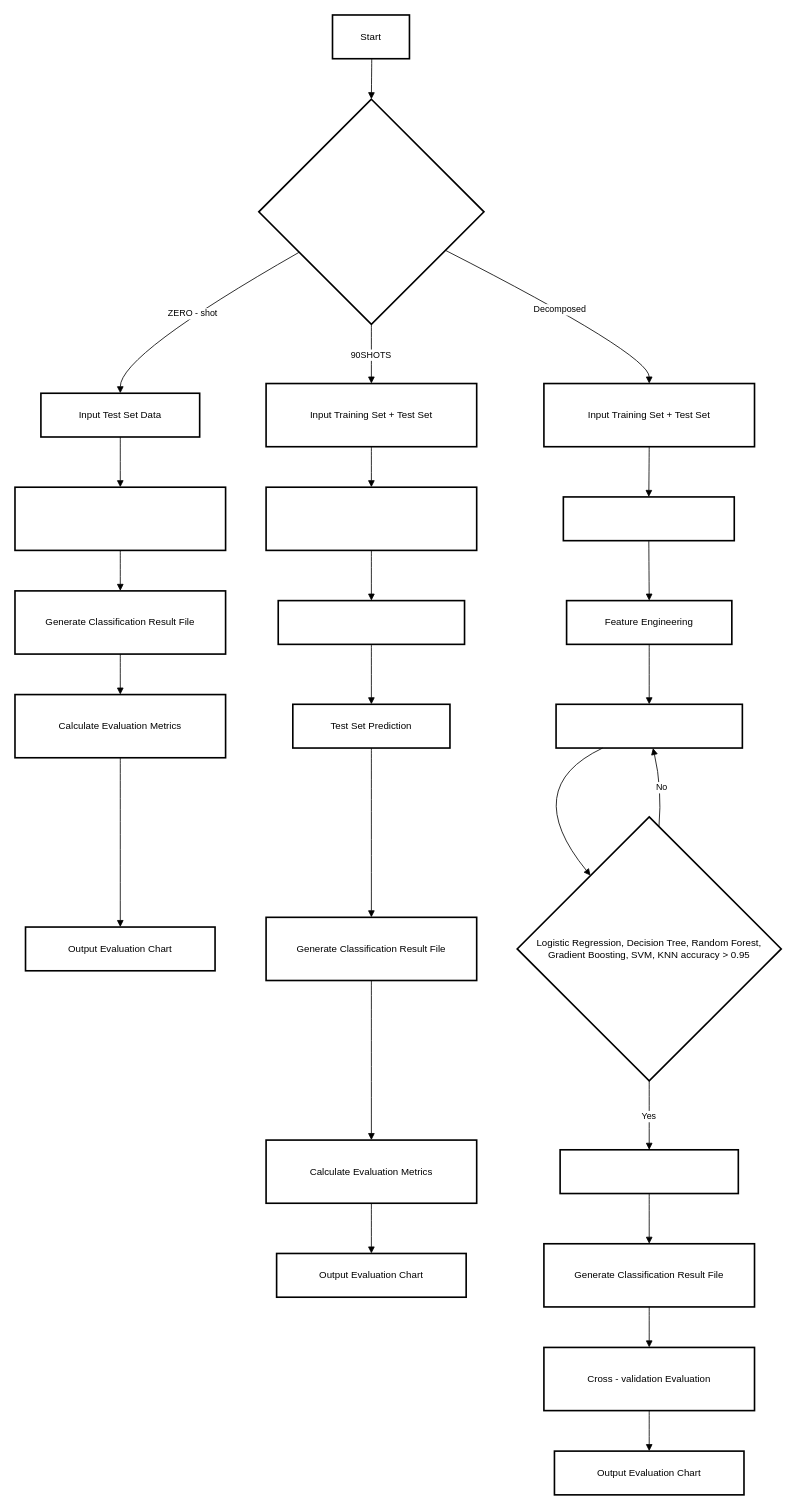
This 795x1509 diagram has some shape labels left out. Here are the shapes that lost their labels. From the top down, the centre of each, then its label:
[371,211]: Prompting Strategy Selection
[120,518]: Execute Pre - defined Rule Classification
[371,518]: Analyze Training Set Patterns
[648,518]: Data Pre - processing
[371,622]: Build Softmax Classifier
[649,725]: Model Iterative Training
[649,1171]: Final Model Prediction
